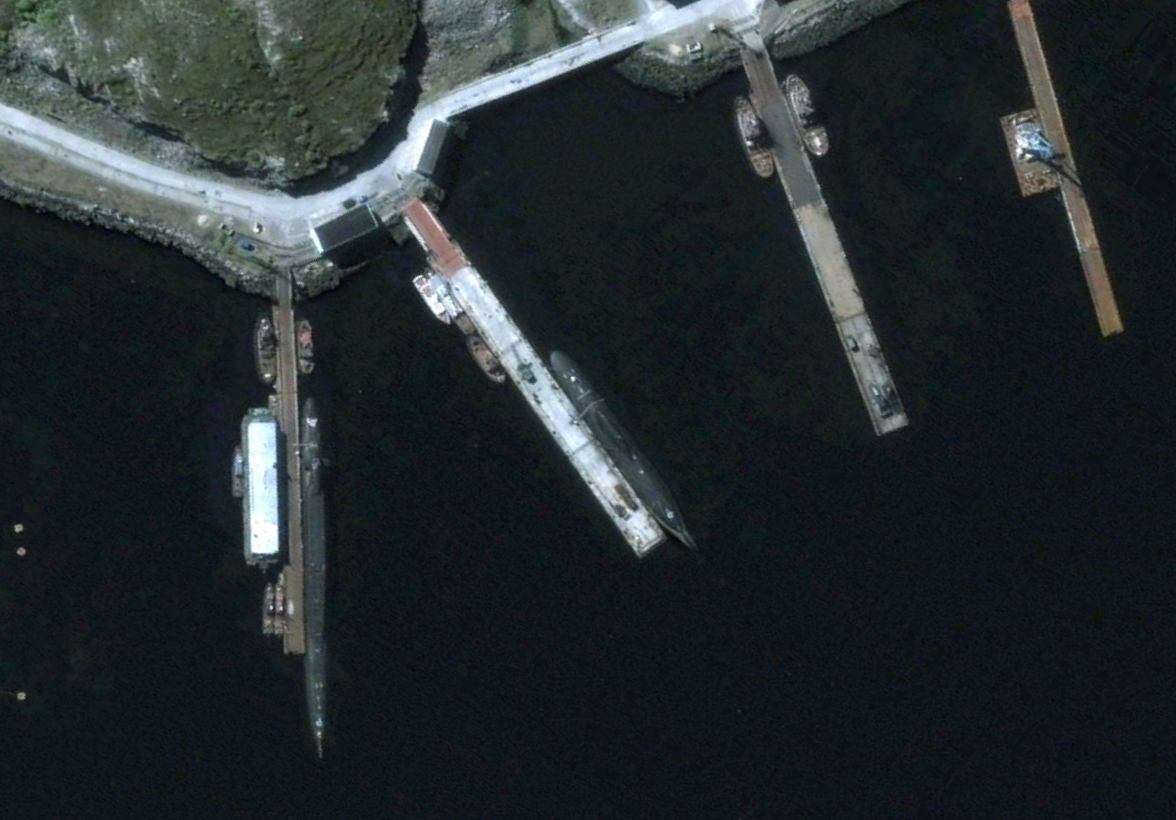merchant ship: (730, 89, 775, 178), (785, 70, 830, 157), (411, 272, 451, 325), (466, 332, 505, 384), (251, 309, 278, 384), (294, 312, 316, 376), (229, 443, 245, 500), (273, 569, 286, 636), (262, 581, 274, 634)
submarine: (549, 347, 693, 547), (301, 395, 330, 761)
